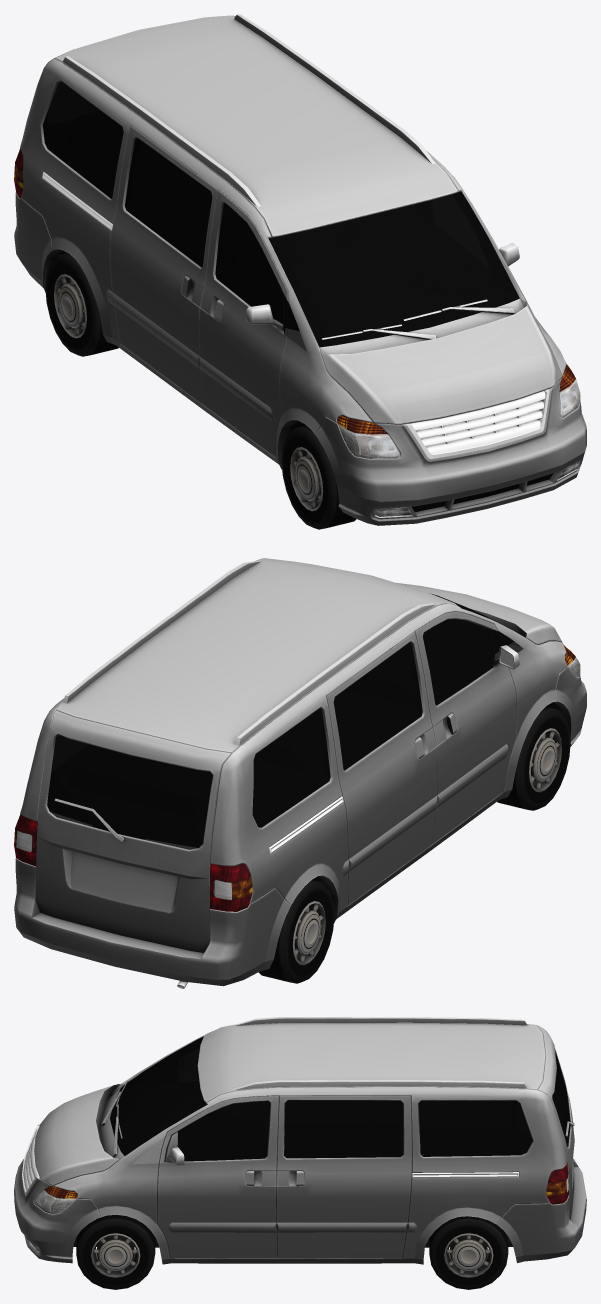
Rendered from minivan.glb.
3 renders of one model, top to bottom at view 1: azimuth 30°, elevation 25°; view 2: azimuth 150°, elevation 25°; view 3: azimuth 270°, elevation 25°, orthographic. The views are drawn at different scales.
Parts seen in each view (by area): view 1: Body, Glass, Wheel2, Wheel4, Optics; view 2: Body, Glass, Wheel4, Wheel2, Optics; view 3: Body, Glass, Wheel1, Wheel3, Optics.
Boxes of the visible parts, bbox=[...] form: Body: bbox=[14, 14, 586, 525]; Glass: bbox=[43, 81, 519, 351]; Wheel2: bbox=[281, 425, 356, 529]; Wheel4: bbox=[45, 253, 118, 356]; Optics: bbox=[14, 148, 580, 516]; Body: bbox=[14, 558, 586, 988]; Glass: bbox=[47, 593, 523, 849]; Wheel4: bbox=[258, 880, 334, 983]; Wheel2: bbox=[497, 706, 570, 810]; Optics: bbox=[14, 644, 580, 911]; Body: bbox=[14, 1017, 586, 1264]; Glass: bbox=[110, 1036, 570, 1161]; Wheel1: bbox=[76, 1215, 155, 1289]; Wheel3: bbox=[429, 1216, 508, 1289]; Optics: bbox=[26, 1162, 568, 1251].
Bounding box in the file's own units: 1.87 × 1.77 × 4.62.
Materials: 4 (3 with a texture image).
